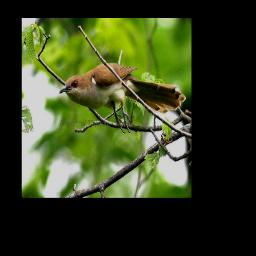Cuckoo: (59, 63, 187, 133)
